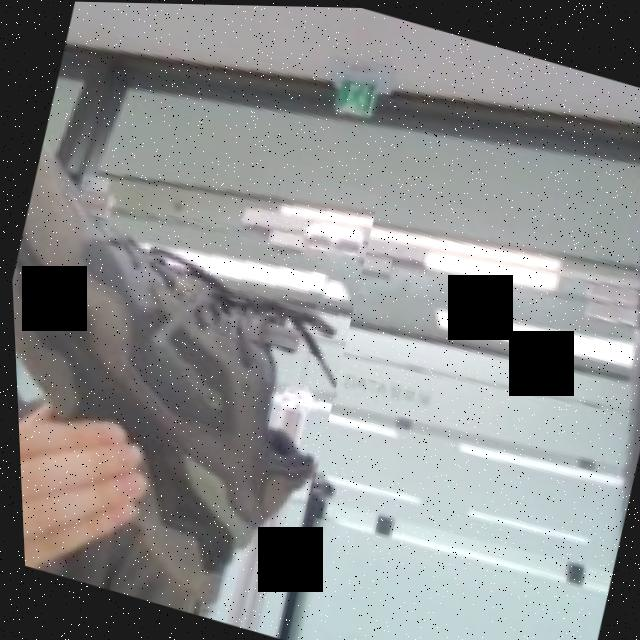shoe: (3, 100, 392, 639)
